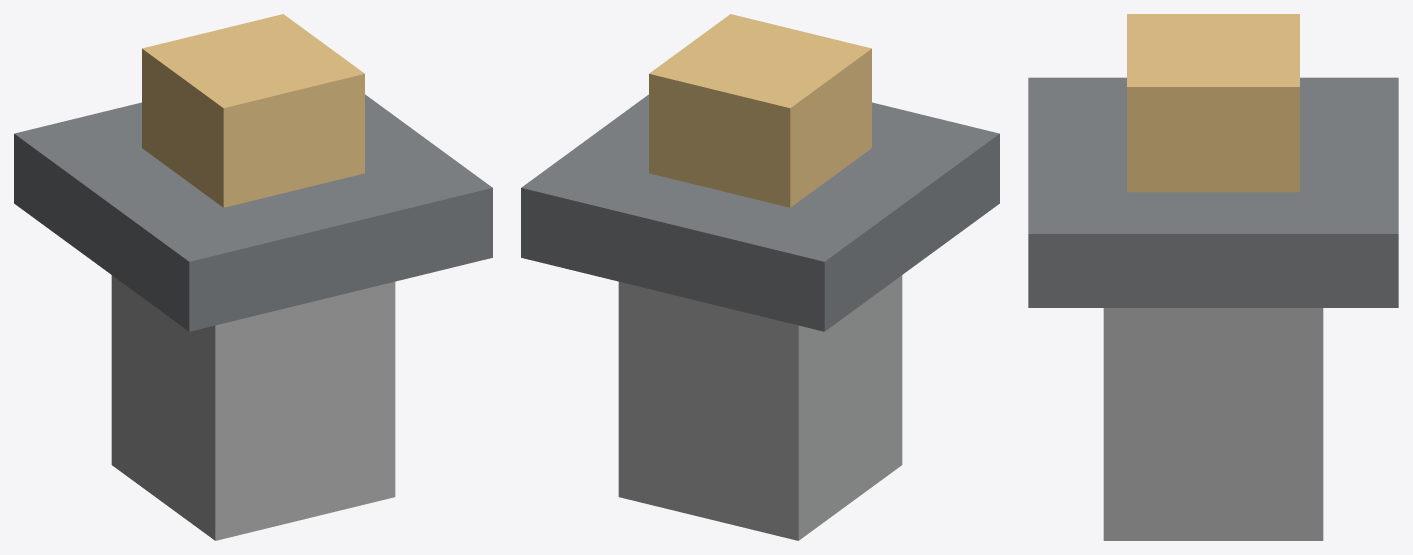
File: patrol_brazier.glb
The picture shows the model from 3 angles, left to right: view 1: azimuth 30°, elevation 25°; view 2: azimuth 150°, elevation 25°; view 3: azimuth 270°, elevation 25°; orthographic projection. The views are drawn at different scales.
Visible parts, largest first — view 1: iron, stone, cloth_gold; view 2: iron, stone, cloth_gold; view 3: iron, stone, cloth_gold.
Part boxes in pixels (left/top/right/bottom): iron: left=14, top=94, right=492, bottom=331; stone: left=111, top=275, right=395, bottom=540; cloth_gold: left=142, top=14, right=364, bottom=207; iron: left=521, top=94, right=999, bottom=331; stone: left=618, top=275, right=902, bottom=540; cloth_gold: left=649, top=14, right=871, bottom=207; iron: left=1028, top=77, right=1398, bottom=307; stone: left=1103, top=308, right=1323, bottom=540; cloth_gold: left=1127, top=14, right=1299, bottom=192.
Size of the model in its own units: 1.18 by 1.56 by 1.18.
